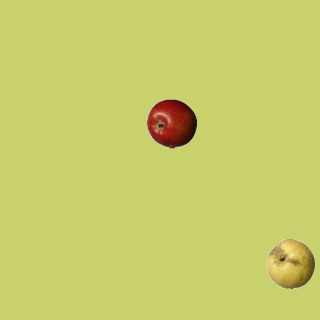Apple Braeburn: (146, 98, 196, 148)
Apple Golden 1: (265, 238, 315, 288)
